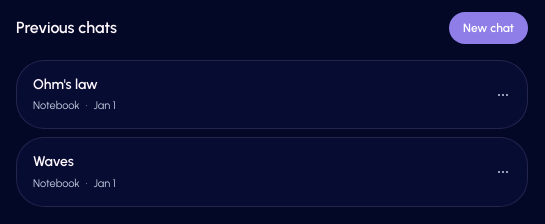
Scenario: JamiAssistantHistory rename › only edits the row that was chosen
Step 1. Click the heading named "More options for Ohm's law" → (503, 95), box [495,87,511,103]
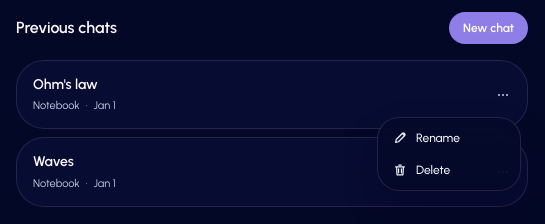
Expected: the button "Rename" is shown
Step 2. Click the button "Rename" → (449, 138), box [382,122,516,154]
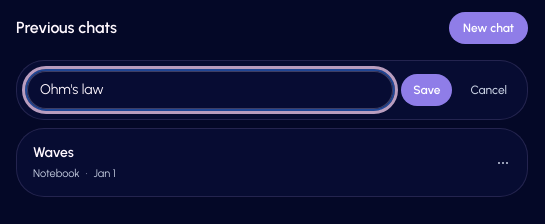
Expected: the element showing "Waves Notebook · Jan 1" is shown, [16,128,528,197]
Expected: the number of forms is 1, [23,67,521,113]
